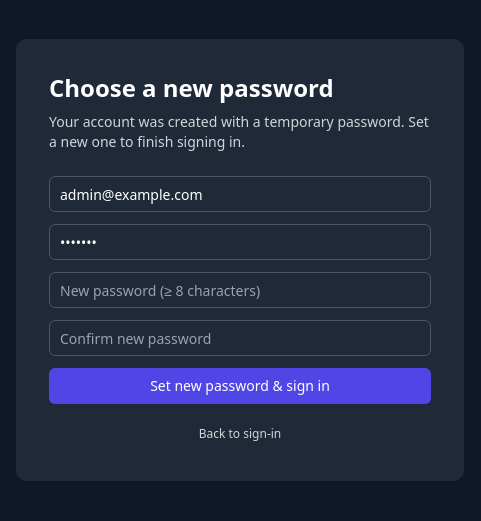
Test: ForcedPasswordChange › shows an inline error when passwords don't match
This screenshot has width=481, height=521.
Type "ChangedAt#1" into the password field with placeholder "New password (≥ 8 characters)". click: (240, 290)
box: [49, 272, 431, 308]
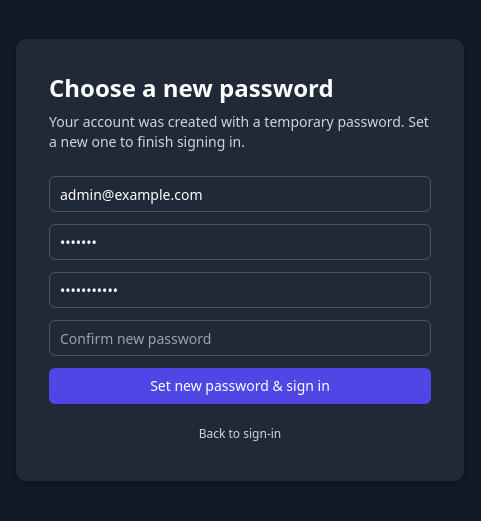
Type "Different#2" into the password field with placeholder "Confirm new password". click: (240, 338)
box: [49, 320, 431, 356]
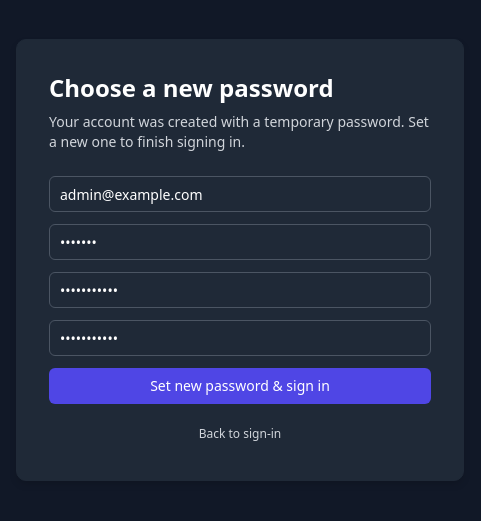
Submit the form with test id "forced-password-change-form", box [49, 176, 431, 404]
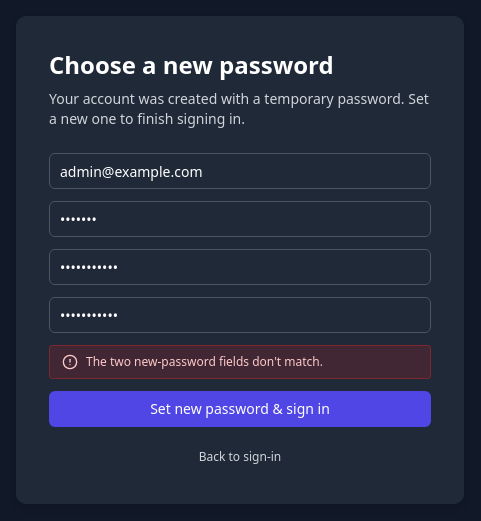
Now the text "The two new-password fields don't match." is shown, box [86, 353, 323, 370]
